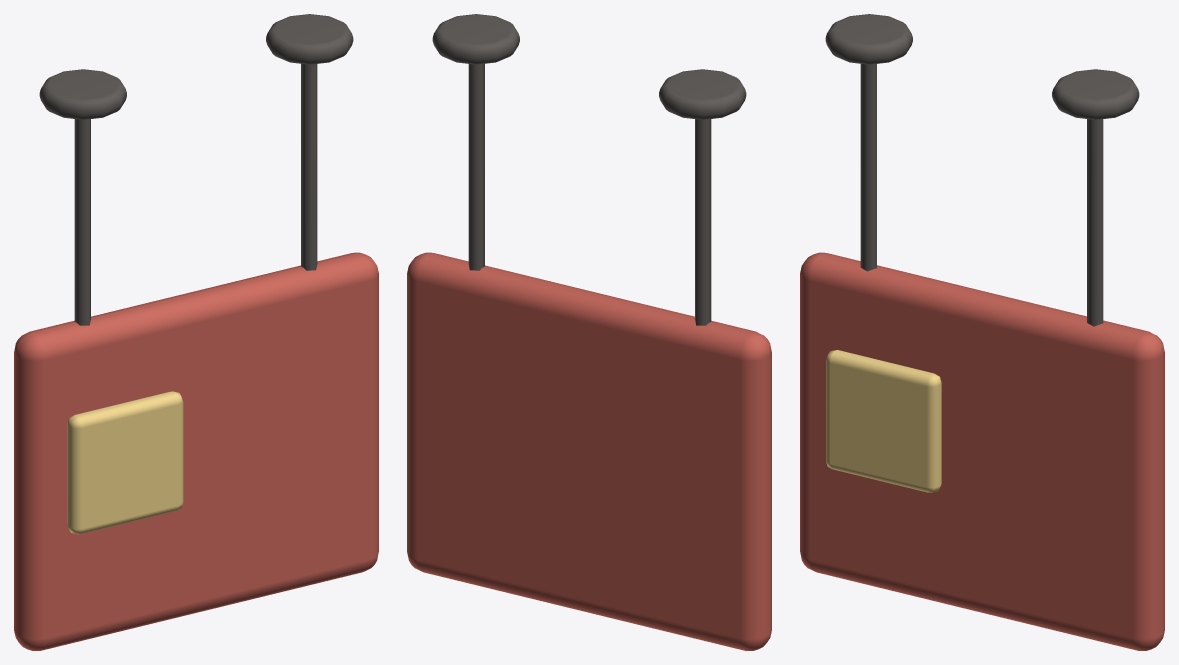
The model's file is hanging_shop_sign.glb.
3 renders of one model, left to right at view 1: azimuth 30°, elevation 25°; view 2: azimuth 150°, elevation 25°; view 3: azimuth 330°, elevation 25°, orthographic.
Visible parts, largest first — view 1: hanging_shop_sign_mesh; view 2: hanging_shop_sign_mesh; view 3: hanging_shop_sign_mesh.
Boxes of the visible parts, left/top/right/bottom form: hanging_shop_sign_mesh: left=14, top=14, right=378, bottom=650; hanging_shop_sign_mesh: left=407, top=14, right=771, bottom=650; hanging_shop_sign_mesh: left=800, top=14, right=1164, bottom=650.
Size of the model in its own units: 0.38 by 0.56 by 0.08.
